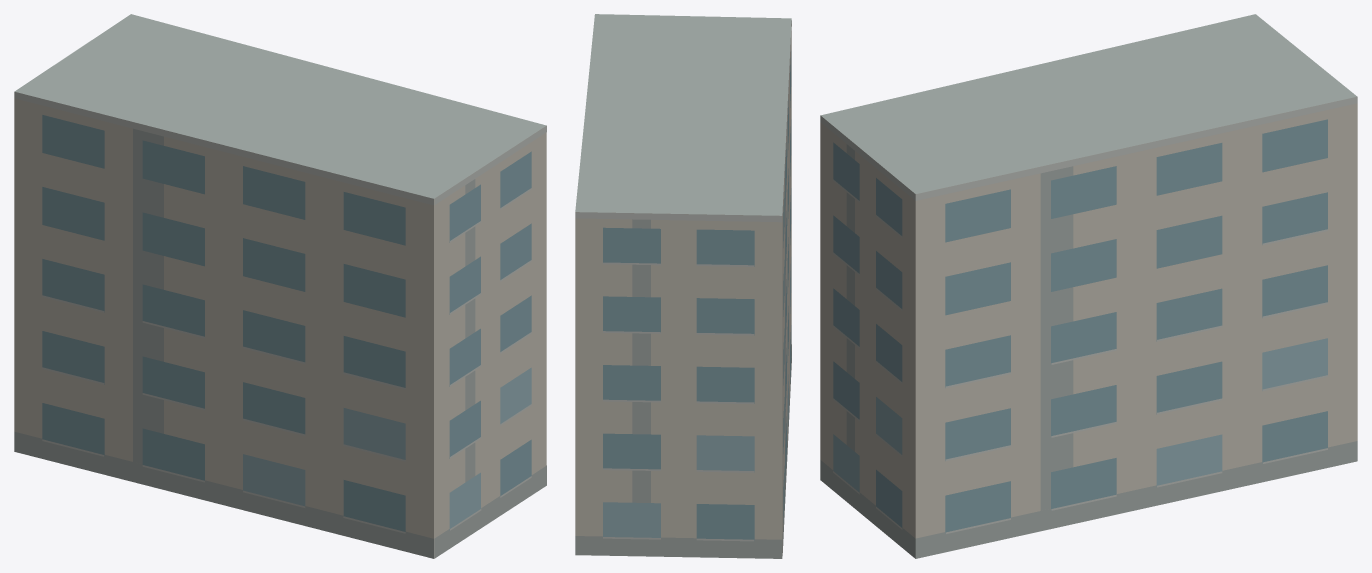
File: survey-upis-32887468.glb
The picture shows the model from 3 angles, left to right: view 1: azimuth 30°, elevation 25°; view 2: azimuth 150°, elevation 25°; view 3: azimuth 270°, elevation 25°; orthographic projection. The views are drawn at different scales.
Visible parts, largest first — view 1: survey-upis-32887468.tmp; view 2: survey-upis-32887468.tmp; view 3: survey-upis-32887468.tmp.
Boxes of the visible parts, <box> form: survey-upis-32887468.tmp: <box>14,14,546,558</box>; survey-upis-32887468.tmp: <box>575,14,791,558</box>; survey-upis-32887468.tmp: <box>820,14,1357,558</box>.
Bounding box in the file's own units: 13.89 × 13.1 × 17.49.
